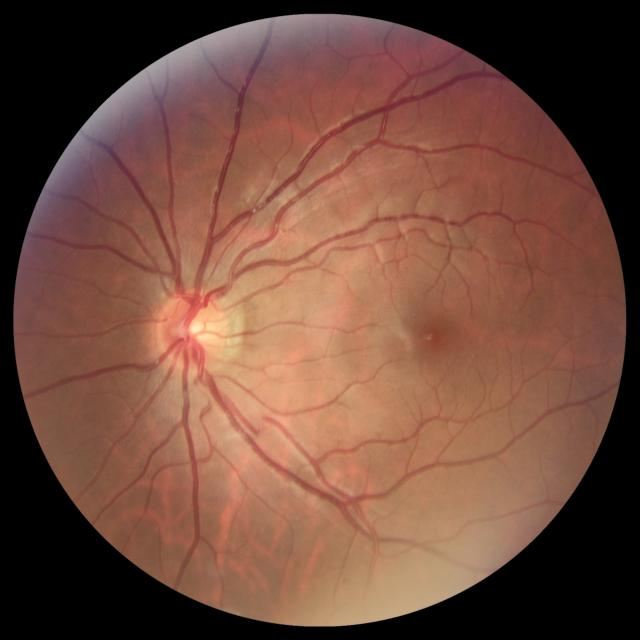OC: (178, 313, 212, 343)
OD: (157, 289, 235, 372)
